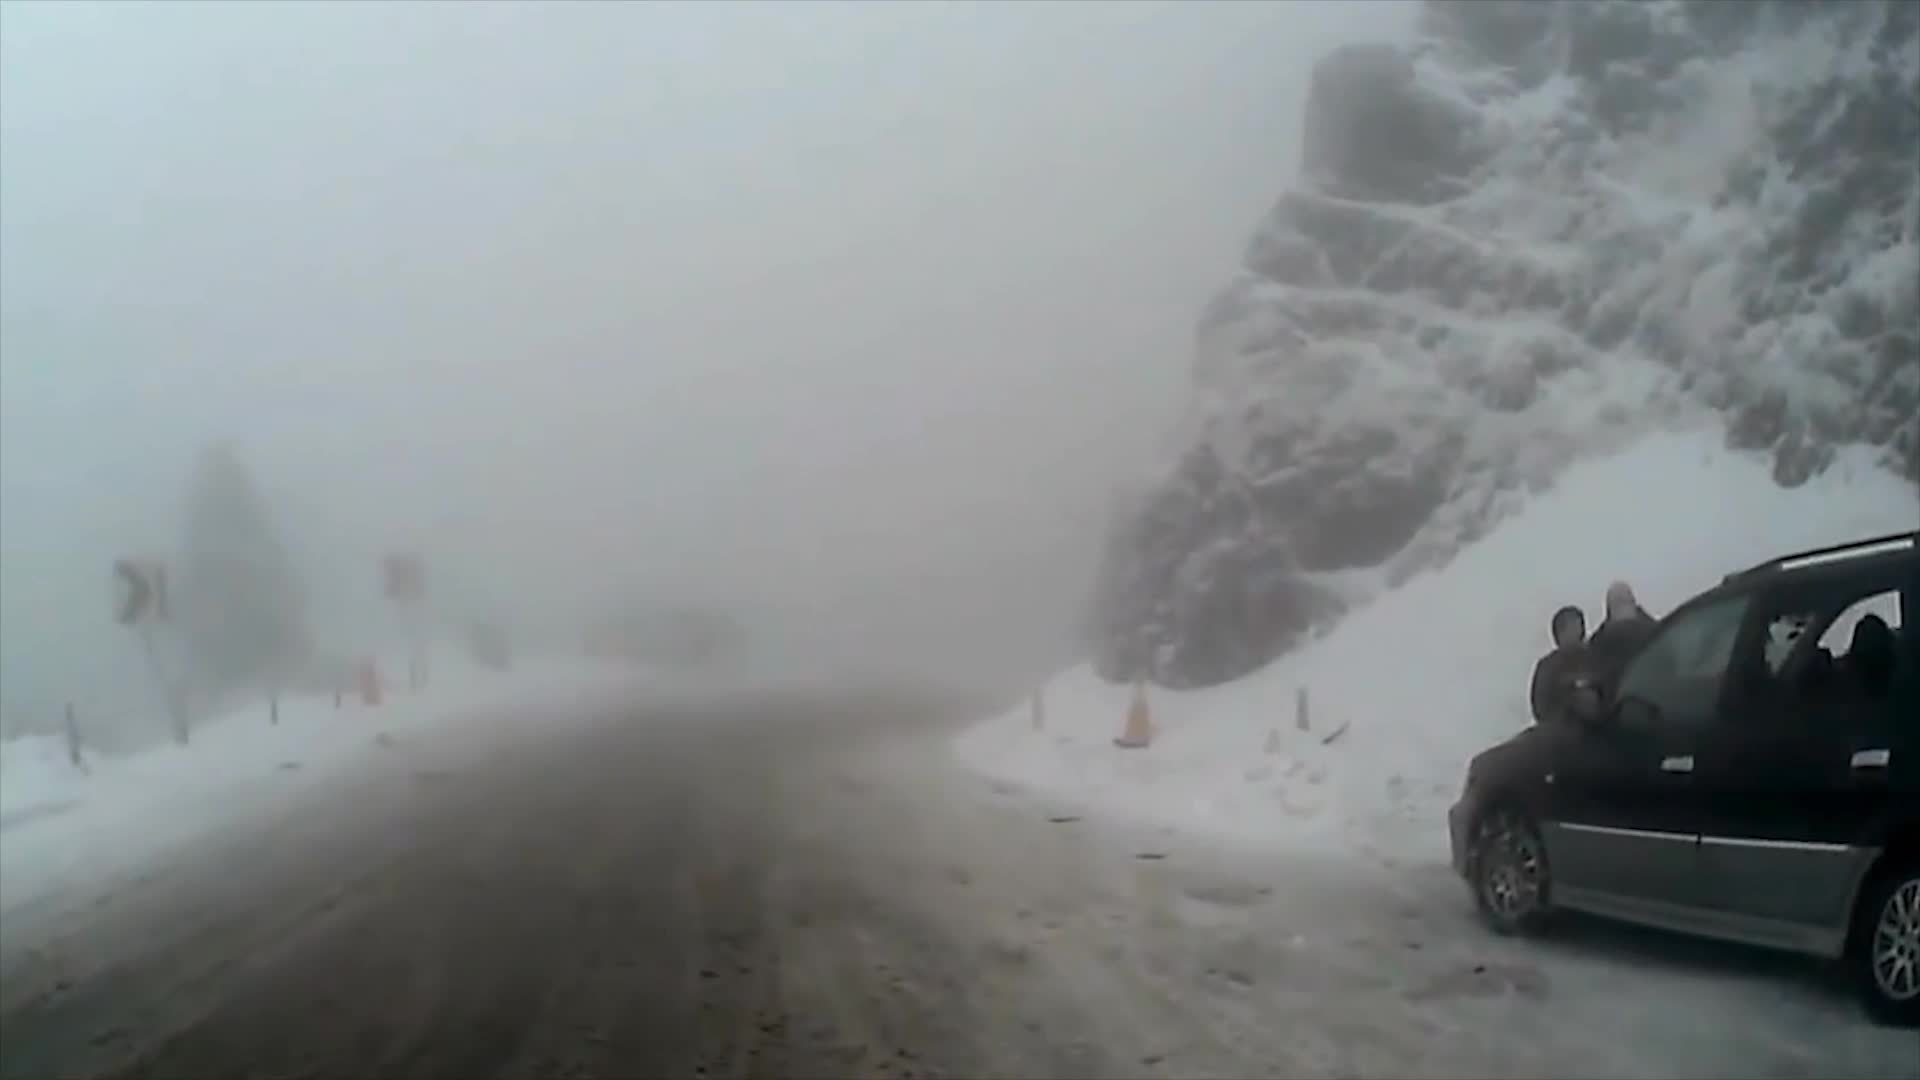pedestrian: (1529, 602, 1613, 890), (1598, 584, 1685, 851)
vehicle: (1443, 528, 1920, 1027)
